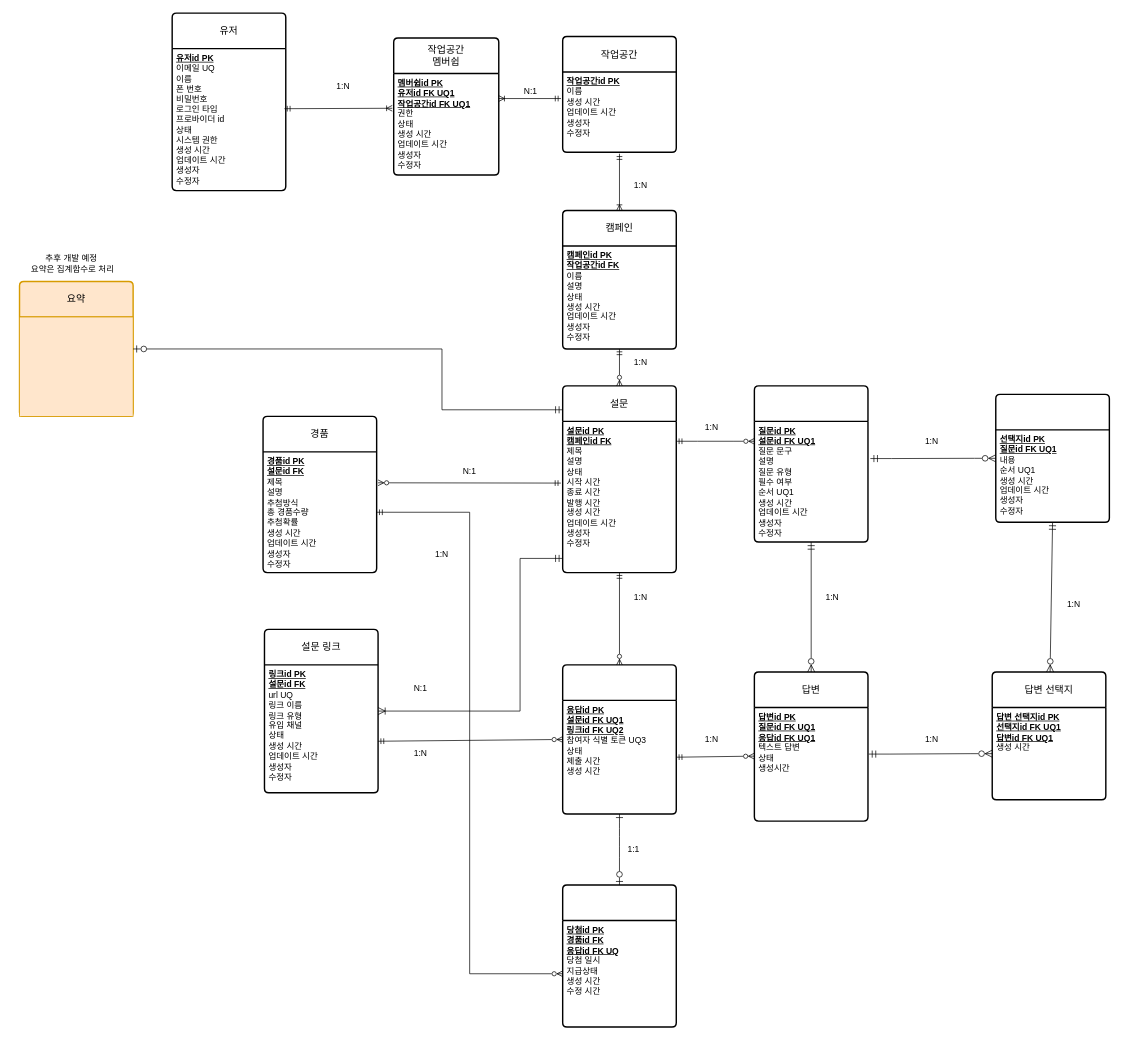
This 1122x1049 diagram has some shape labels left out. The box of each missing label's shape, as (x1, y1, x2, y2) in pixels:
경품 결과: (562, 884, 677, 1027)
요약id 요약 내용 상태 생성 시간 업데이트 시간 생성자 수정자: (19, 316, 133, 416)
응답: (562, 664, 677, 814)
질문: (753, 385, 868, 542)
질문 선택지: (995, 393, 1110, 523)
